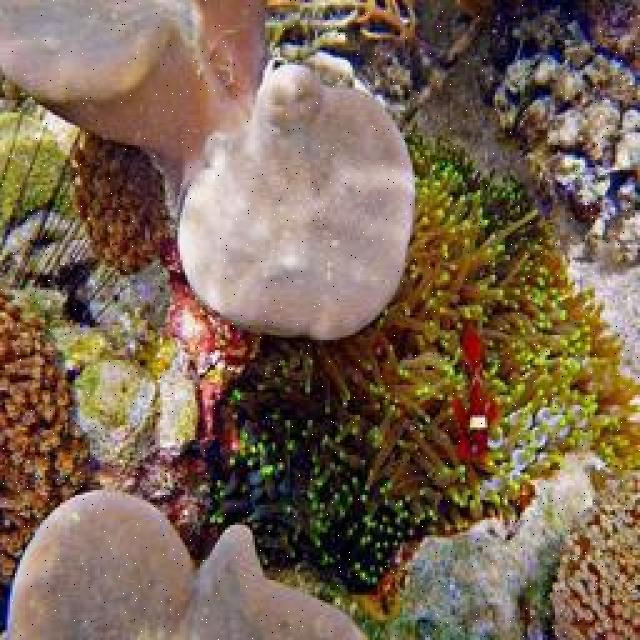reefs: (0, 0, 420, 638), (215, 148, 638, 638)
